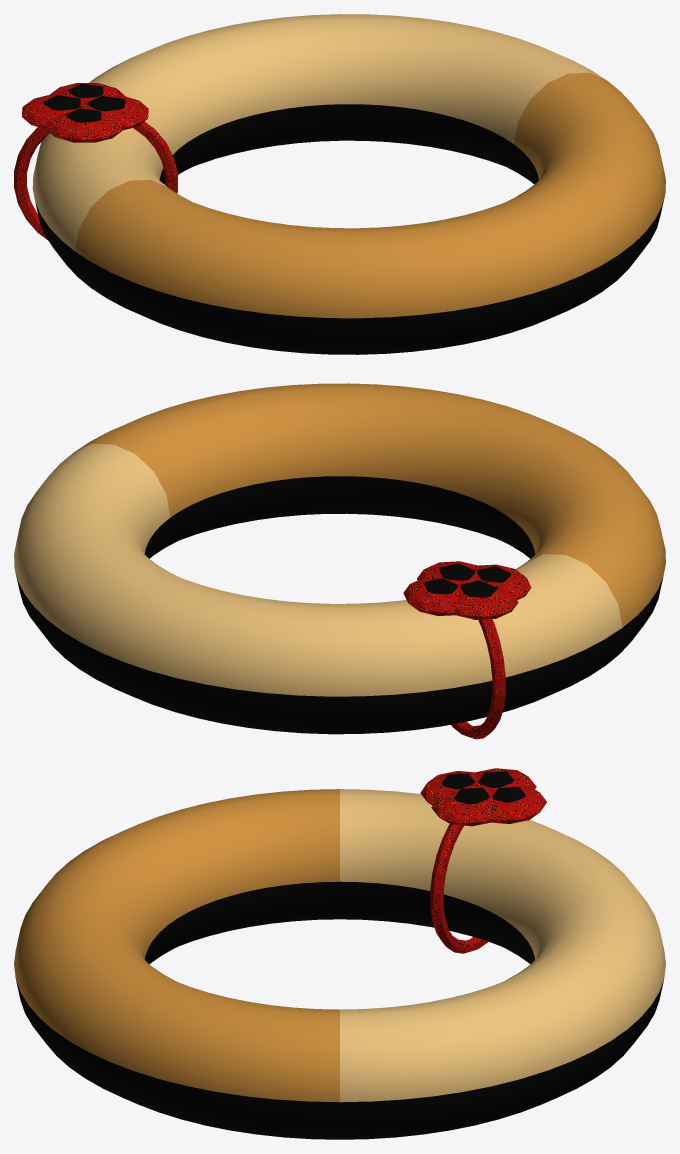
The model's file is yuzhuo.fbx.
3 renders of one model, top to bottom at view 1: azimuth 30°, elevation 25°; view 2: azimuth 150°, elevation 25°; view 3: azimuth 270°, elevation 25°, orthographic. The views are drawn at different scales.
Parts seen in each view (by area): view 1: yuzhuo; view 2: yuzhuo; view 3: yuzhuo.
Boxes of the visible parts, bbox=[...] form: yuzhuo: bbox=[14, 14, 665, 354]; yuzhuo: bbox=[14, 383, 665, 739]; yuzhuo: bbox=[14, 768, 665, 1139].
Size of the model in its own units: 100 by 26.96 by 100.
